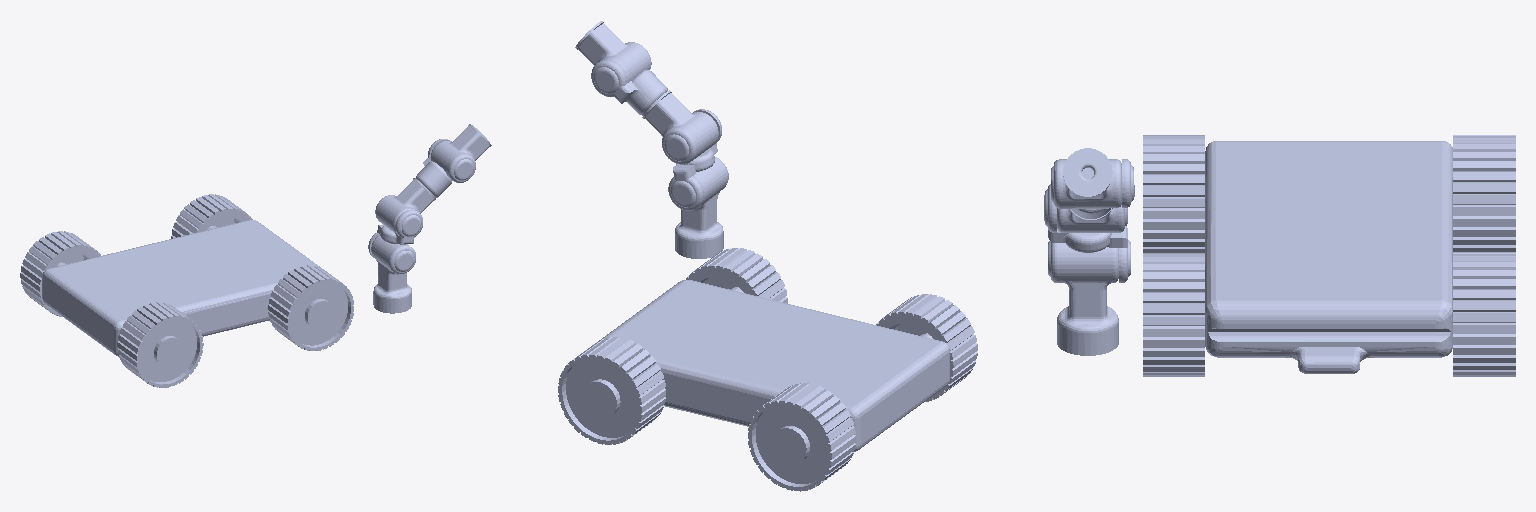
The robot description file, URDF, robot "rover":
<?xml version="1.0" encoding="utf-8"?>
<!-- =================================================================================== -->
<!-- |    This document was autogenerated by xacro from rover.urdf.xacro               | -->
<!-- |    EDITING THIS FILE BY HAND IS NOT RECOMMENDED                                 | -->
<!-- =================================================================================== -->
<robot name="rover">
  <link name="base_link">
    <inertial>
      <origin rpy="0 0 0" xyz="-0.29995 0.2 0.041752"/>
      <mass value="13.103"/>
      <inertia ixx="0.24866" ixy="1.4075E-09" ixz="-0.0006327" iyy="0.61245" iyz="5.582E-09" izz="0.83734"/>
    </inertial>
    <visual>
      <origin rpy="0 0 0" xyz="0 0 0"/>
      <geometry>
        <mesh filename="package://rover/meshes/base_link.STL"/>
      </geometry>
      <material name="">
        <color rgba="0.79216 0.81961 0.93333 1"/>
      </material>
    </visual>
    <collision>
      <origin rpy="0 0 0" xyz="0 0 0"/>
      <geometry>
        <mesh filename="package://rover/meshes/base_link.STL"/>
      </geometry>
    </collision>
  </link>
  <link name="rear_wheels">
    <inertial>
      <origin rpy="0 0 0" xyz="-1.1102E-16 2.2204E-16 -0.3"/>
      <mass value="3.8893"/>
      <inertia ixx="0.026151" ixy="3.5479E-19" ixz="-2.0965E-19" iyy="0.026151" iyz="-1.1357E-18" izz="0.020788"/>
    </inertial>
    <visual>
      <origin rpy="0 0 0" xyz="0 0 0"/>
      <geometry>
        <mesh filename="package://rover/meshes/rear_wheels.STL"/>
      </geometry>
      <material name="">
        <color rgba="0.79216 0.81961 0.93333 1"/>
      </material>
    </visual>
    <collision>
      <origin rpy="0 0 0" xyz="0 0 0"/>
      <geometry>
        <mesh filename="package://rover/meshes/rear_wheels.STL"/>
      </geometry>
    </collision>
  </link>
  <joint name="rear_wheel_joint" type="continuous">
    <origin rpy="1.5708 0 0" xyz="-0.52 -0.1 0.022"/>
    <parent link="base_link"/>
    <child link="rear_wheels"/>
    <axis xyz="0 0 1"/>
  </joint>
  <link name="front_wheels">
    <inertial>
      <origin rpy="0 0 0" xyz="-1.8874E-15 6.6613E-16 -0.3"/>
      <mass value="3.8893"/>
      <inertia ixx="0.026151" ixy="9.817E-19" ixz="7.6731E-19" iyy="0.026151" iyz="1.0524E-19" izz="0.020788"/>
    </inertial>
    <visual>
      <origin rpy="0 0 0" xyz="0 0 0"/>
      <geometry>
        <mesh filename="package://rover/meshes/front_wheels.STL"/>
      </geometry>
      <material name="">
        <color rgba="0.79216 0.81961 0.93333 1"/>
      </material>
    </visual>
    <collision>
      <origin rpy="0 0 0" xyz="0 0 0"/>
      <geometry>
        <mesh filename="package://rover/meshes/front_wheels.STL"/>
      </geometry>
    </collision>
  </link>
  <joint name="front_wheel_joint" type="continuous">
    <origin rpy="1.5708 0 0" xyz="-0.07 -0.1 0.022"/>
    <parent link="base_link"/>
    <child link="front_wheels"/>
    <axis xyz="0 0 1"/>
  </joint>
  <joint name="arn_base_joint" type="fixed">
    <origin rpy="0 0 0" xyz="0 0 0.03"/>
    <parent link="base_link"/>
    <child link="arn_base"/>
  </joint>
  <link name="arn_base">
    <inertial>
      <origin rpy="0 0 0" xyz="0.092843 0.11115 0.19139"/>
      <mass value="1.1258"/>
      <inertia ixx="0.0046576" ixy="-4.2427E-10" ixz="-1.9958E-10" iyy="0.0013278" iyz="-0.00014449" izz="0.00438"/>
    </inertial>
    <visual>
      <origin rpy="0 0 0" xyz="0 0 0"/>
      <geometry>
        <mesh filename="package://rover/meshes/arn_base.STL"/>
      </geometry>
      <material name="">
        <color rgba="0.79216 0.81961 0.93333 1"/>
      </material>
    </visual>
    <collision>
      <origin rpy="0 0 0" xyz="0 0 0"/>
      <geometry>
        <mesh filename="package://rover/meshes/arn_base.STL"/>
      </geometry>
    </collision>
  </link>
  <link name="bicep">
    <inertial>
      <origin rpy="0 0 0" xyz="-9.5491E-08 0.050024 0.069997"/>
      <mass value="0.41299"/>
      <inertia ixx="0.0015642" ixy="-1.2115E-11" ixz="1.9733E-10" iyy="0.00097868" iyz="-0.00038761" izz="0.0008296"/>
    </inertial>
    <visual>
      <origin rpy="0 0 0" xyz="0 0 0"/>
      <geometry>
        <mesh filename="package://rover/meshes/bicep.STL"/>
      </geometry>
      <material name="">
        <color rgba="0.79216 0.81961 0.93333 1"/>
      </material>
    </visual>
    <collision>
      <origin rpy="0 0 0" xyz="0 0 0"/>
      <geometry>
        <mesh filename="package://rover/meshes/bicep.STL"/>
      </geometry>
    </collision>
  </link>
  <joint name="shoulder_joint" type="continuous">
    <origin rpy="1.5708 0.18321 0" xyz="0.092843 -0.11914 0.16839"/>
    <parent link="arn_base"/>
    <child link="bicep"/>
    <axis xyz="0 0 1"/>
  </joint>
  <link name="bottom_wrist">
    <inertial>
      <origin rpy="0 0 0" xyz="-4.0905E-08 -0.02109 0.055"/>
      <mass value="0.73266"/>
      <inertia ixx="0.0015748" ixy="2.1317E-09" ixz="-1.5E-10" iyy="0.00084305" iyz="1.4705E-11" izz="0.0013045"/>
    </inertial>
    <visual>
      <origin rpy="0 0 0" xyz="0 0 0"/>
      <geometry>
        <mesh filename="package://rover/meshes/bottom_wrist.STL"/>
      </geometry>
      <material name="">
        <color rgba="0.79216 0.81961 0.93333 1"/>
      </material>
    </visual>
    <collision>
      <origin rpy="0 0 0" xyz="0 0 0"/>
      <geometry>
        <mesh filename="package://rover/meshes/bottom_wrist.STL"/>
      </geometry>
    </collision>
  </link>
  <joint name="bottom_wrist_joint" type="continuous">
    <origin rpy="0 0 2.3852" xyz="0 0.1 0.01"/>
    <parent link="bicep"/>
    <child link="bottom_wrist"/>
    <axis xyz="0 0 1"/>
  </joint>
  <link name="elbow">
    <inertial>
      <origin rpy="0 0 0" xyz="-1.0046E-08 -0.10496 -0.01015"/>
      <mass value="0.4633"/>
      <inertia ixx="0.0010638" ixy="-4.2139E-12" ixz="2.3982E-10" iyy="0.00063995" iyz="-0.00019133" izz="0.00074255"/>
    </inertial>
    <visual>
      <origin rpy="0 0 0" xyz="0 0 0"/>
      <geometry>
        <mesh filename="package://rover/meshes/elbow.STL"/>
      </geometry>
      <material name="">
        <color rgba="0.79216 0.81961 0.93333 1"/>
      </material>
    </visual>
    <collision>
      <origin rpy="0 0 0" xyz="0 0 0"/>
      <geometry>
        <mesh filename="package://rover/meshes/elbow.STL"/>
      </geometry>
    </collision>
  </link>
  <joint name="elbow_joint" type="continuous">
    <origin rpy="0 -0.011377 0" xyz="0 -0.046157 0.055"/>
    <parent link="bottom_wrist"/>
    <child link="elbow"/>
    <axis xyz="0 1 0"/>
  </joint>
  <link name="top_wrist">
    <inertial>
      <origin rpy="0 0 0" xyz="8.1204E-09 -0.02109 -0.0050001"/>
      <mass value="0.73266"/>
      <inertia ixx="0.0015748" ixy="2.8411E-09" ixz="-7.6201E-11" iyy="0.00084305" iyz="4.5363E-10" izz="0.0013045"/>
    </inertial>
    <visual>
      <origin rpy="0 0 0" xyz="0 0 0"/>
      <geometry>
        <mesh filename="package://rover/meshes/top_wrist.STL"/>
      </geometry>
      <material name="">
        <color rgba="0.79216 0.81961 0.93333 1"/>
      </material>
    </visual>
    <collision>
      <origin rpy="0 0 0" xyz="0 0 0"/>
      <geometry>
        <mesh filename="package://rover/meshes/top_wrist.STL"/>
      </geometry>
    </collision>
  </link>
  <joint name="top_wrist_joint" type="continuous">
    <origin rpy="3.1416 0 3.1319" xyz="0 -0.15448 0"/>
    <parent link="elbow"/>
    <child link="top_wrist"/>
    <axis xyz="0 0 1"/>
  </joint>
  <!--######################################################################-->
  <transmission name="arm_base_trans" type="SimpleTransmission">
    <type>transmission_interface/SimpleTransmission</type>
    <actuator name="arm_base_motor">
      <hardwareInterface>hardware_interface/PositionJointInterface</hardwareInterface>
      <mechanicalReduction>1</mechanicalReduction>
    </actuator>
    <joint name="arn_base_joint">
      <hardwareInterface>hardware_interface/PositionJointInterface</hardwareInterface>
    </joint>
  </transmission>
  <transmission name="shoulder_trans" type="SimpleTransmission">
    <type>transmission_interface/SimpleTransmission</type>
    <actuator name="shoulder_motor">
      <hardwareInterface>hardware_interface/PositionJointInterface</hardwareInterface>
      <mechanicalReduction>1</mechanicalReduction>
    </actuator>
    <joint name="shoulder_joint">
      <hardwareInterface>hardware_interface/PositionJointInterface</hardwareInterface>
    </joint>
  </transmission>
  <transmission name="bottom_wrist_trans" type="SimpleTransmission">
    <type>transmission_interface/SimpleTransmission</type>
    <actuator name="bottom_wrist_motor">
      <hardwareInterface>hardware_interface/PositionJointInterface</hardwareInterface>
      <mechanicalReduction>1</mechanicalReduction>
    </actuator>
    <joint name="bottom_wrist_joint">
      <hardwareInterface>hardware_interface/PositionJointInterface</hardwareInterface>
    </joint>
  </transmission>
  <transmission name="elbow_trans" type="SimpleTransmission">
    <type>transmission_interface/SimpleTransmission</type>
    <actuator name="elbow_motor">
      <hardwareInterface>hardware_interface/PositionJointInterface</hardwareInterface>
      <mechanicalReduction>1</mechanicalReduction>
    </actuator>
    <joint name="elbow_joint">
      <hardwareInterface>hardware_interface/PositionJointInterface</hardwareInterface>
    </joint>
  </transmission>
  <transmission name="top_wrist_trans" type="SimpleTransmission">
    <type>transmission_interface/SimpleTransmission</type>
    <actuator name="top_wrist_motor">
      <hardwareInterface>hardware_interface/PositionJointInterface</hardwareInterface>
      <mechanicalReduction>1</mechanicalReduction>
    </actuator>
    <joint name="top_wrist_joint">
      <hardwareInterface>hardware_interface/PositionJointInterface</hardwareInterface>
    </joint>
  </transmission>
  <!--######################################################################-->
  <gazebo>
    <plugin filename="libgazebo_ros_control.so" name="gazebo_ros_control">
      <robotNamespace>/</robotNamespace>
      <controlPeriod>0.001</controlPeriod>
      <legacyModeNS>false</legacyModeNS>
    </plugin>
  </gazebo>
  <!--######################################################################-->
  <gazebo>
    <plugin filename="libgazebo_ros_joint_state_publisher.so" name="joint_state_publisher">
      <jointName>arm_base_joint, shoulder_joint, bottom_wrist_joint, elbow_joint, bottom_wrist_joint</jointName>
    </plugin>
  </gazebo>
  <!--######################################################################-->
</robot>

--- Facts derived from the render (not from the file) ---
3 views of the same robot in one strip: view 1: azimuth 30°, elevation 25°; view 2: azimuth 150°, elevation 25°; view 3: azimuth 270°, elevation 25° (orthographic).
Robot: rover — 8 links, 7 joints (6 continuous, 1 fixed); root link base_link; default pose: all joints at 0.
Visible links, largest first — view 1: base_link, rear_wheels, front_wheels, arn_base, top_wrist, bottom_wrist, bicep, elbow; view 2: base_link, rear_wheels, front_wheels, arn_base, bottom_wrist, bicep, elbow, top_wrist; view 3: base_link, front_wheels, rear_wheels, arn_base, top_wrist, bicep, bottom_wrist, elbow.
Link boxes in pixels (x1,y1,x2,y2): base_link: (42, 220, 320, 356); rear_wheels: (20, 231, 203, 387); front_wheels: (171, 194, 353, 350); arn_base: (371, 235, 415, 313); top_wrist: (431, 124, 491, 182); bottom_wrist: (375, 178, 435, 235); bicep: (368, 209, 422, 271); elbow: (416, 139, 473, 197); base_link: (599, 280, 949, 451); rear_wheels: (748, 294, 977, 491); front_wheels: (558, 248, 787, 444); arn_base: (675, 156, 728, 258); bottom_wrist: (642, 90, 718, 164); bicep: (664, 109, 721, 210); elbow: (591, 60, 667, 115); top_wrist: (575, 21, 651, 82); base_link: (1205, 141, 1452, 373); front_wheels: (1143, 253, 1515, 376); rear_wheels: (1143, 135, 1515, 252); arn_base: (1051, 242, 1118, 355); top_wrist: (1054, 148, 1121, 208); bicep: (1044, 184, 1130, 282); bottom_wrist: (1057, 205, 1124, 232); elbow: (1051, 159, 1134, 218).
Bounding box of the posed robot: 0.9976 × 0.7591 × 0.5837 m (x, y, z).
8 mesh visuals loaded from 8 distinct referenced files (8 binary STL).